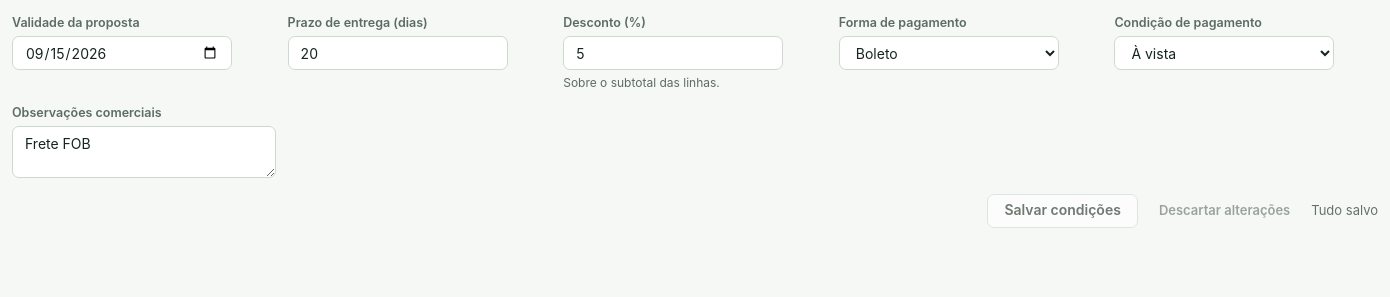
Scenario: Aplicar padrão do cliente — quando aparece › texto escondido no parcelamento de uma condição à vista não faz a ação aparecer
This screenshot has width=1390, height=297.
Expected: the button "Aplicar padrão do cliente" is not shown
Step 1. Select "Parcelado" in the dropdown labelled "Condição de pagamento" → (1224, 53), box [1114,36,1334,70]
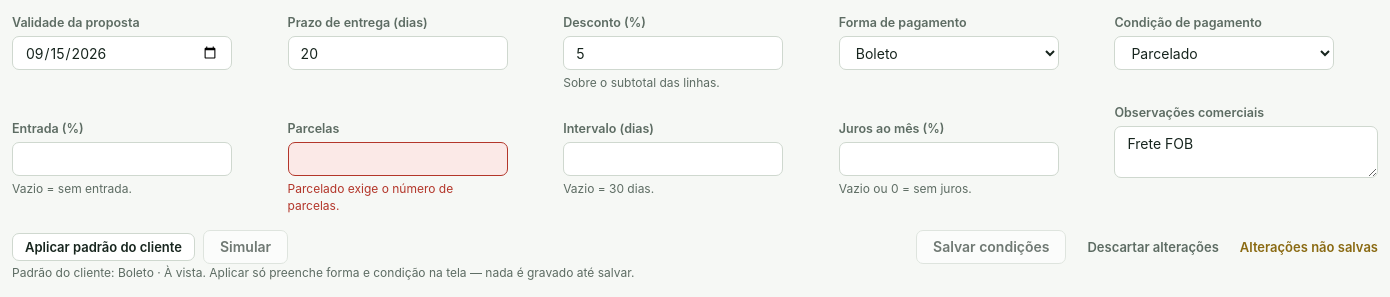
Step 2. Type "4" into the field labelled "Parcelas" → (398, 159), box [288,142,508,176]
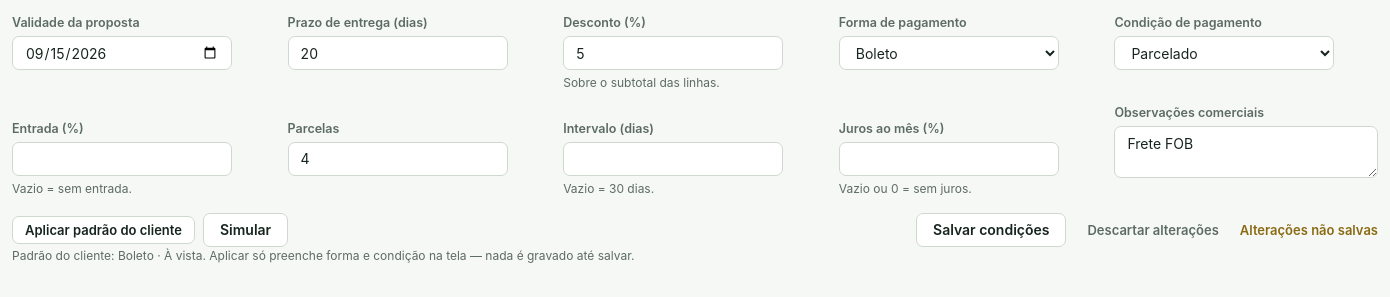
Step 3. Select "À vista" in the dropdown labelled "Condição de pagamento" → (1224, 53), box [1114,36,1334,70]
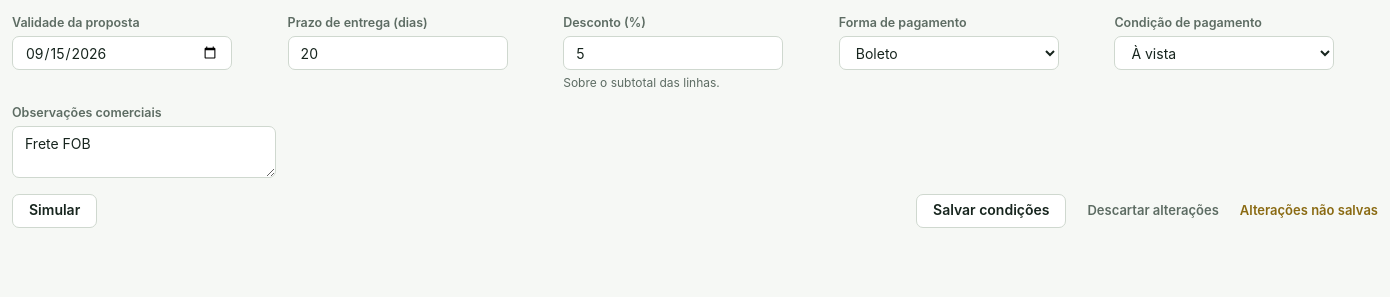
Expected: the button "Aplicar padrão do cliente" is gone
